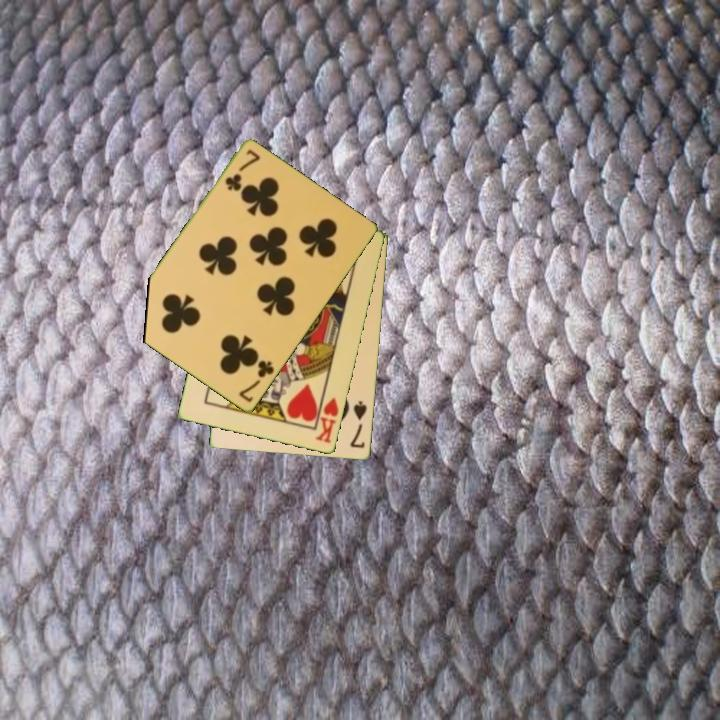7c: (235, 357, 277, 406), (221, 146, 263, 195)
7s: (347, 398, 370, 451)
Kh: (312, 389, 342, 446)
